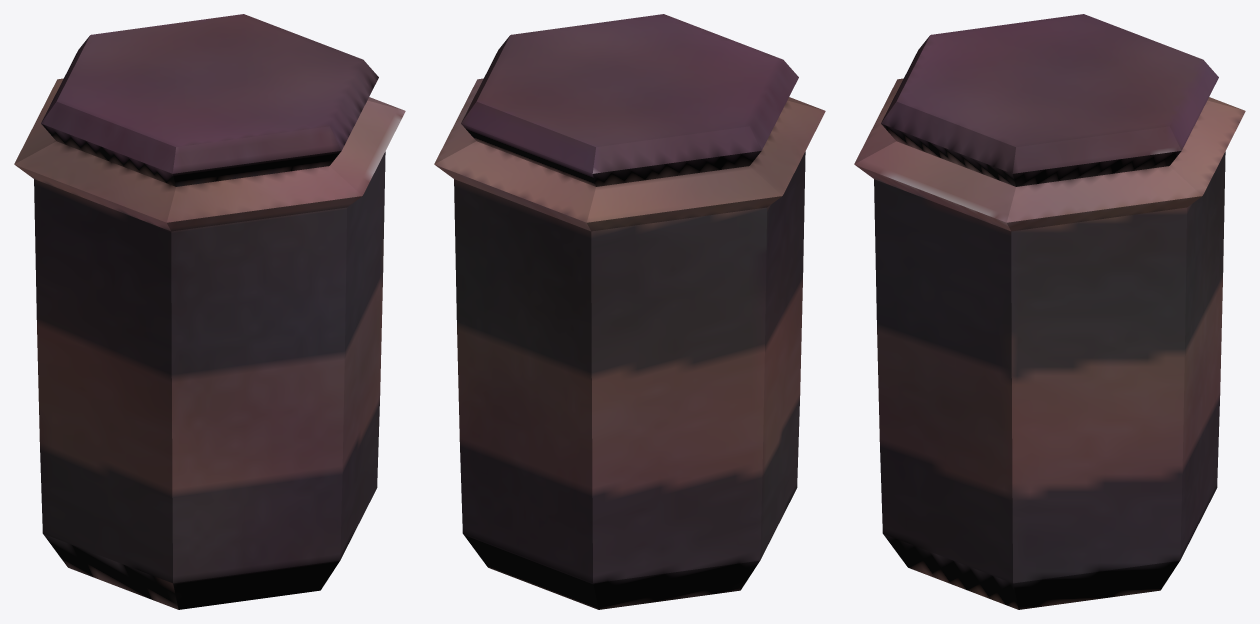
The model's file is Saltmix.fbx.
3 renders of one model, left to right at view 1: azimuth 30°, elevation 25°; view 2: azimuth 150°, elevation 25°; view 3: azimuth 270°, elevation 25°, orthographic.
Parts seen in each view (by area): view 1: Itemsaltmix; view 2: Itemsaltmix; view 3: Itemsaltmix.
Part boxes in pixels (x1,y1,x2,y2): Itemsaltmix: (14,14,405,609); Itemsaltmix: (434,14,825,609); Itemsaltmix: (854,14,1245,609).
Bounding box in the file's own units: 46.14 × 60.45 × 44.91.
Materials: 1 (1 with a texture image).
